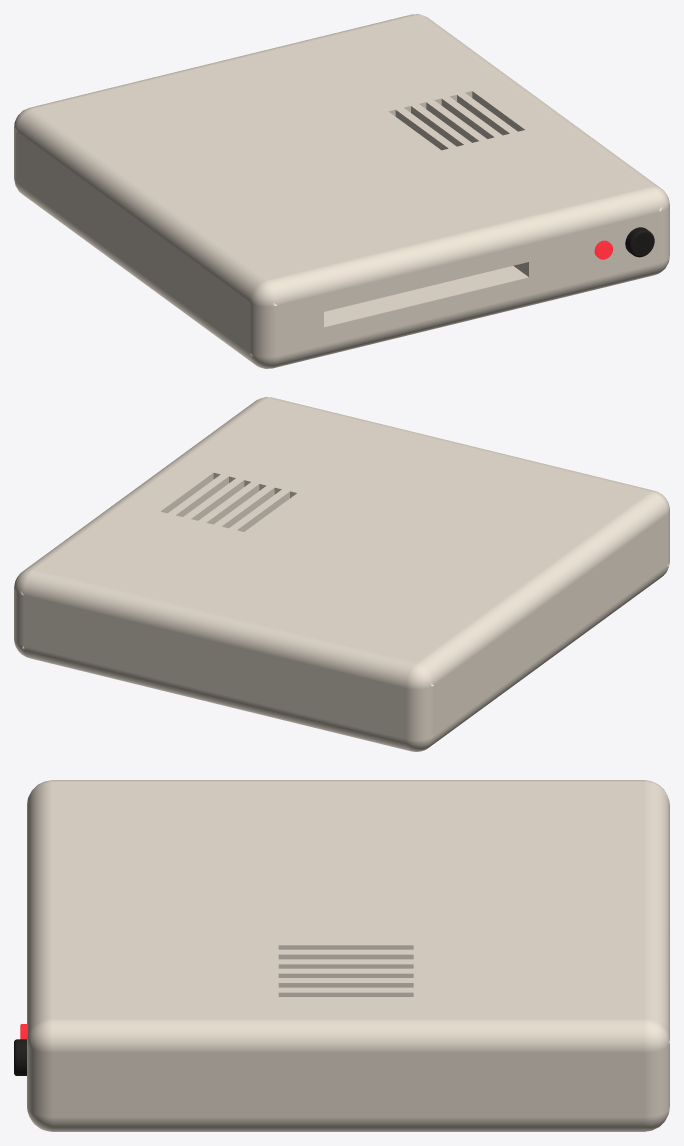
File: server.glb
The picture shows the model from 3 angles, top to bottom: view 1: azimuth 30°, elevation 25°; view 2: azimuth 150°, elevation 25°; view 3: azimuth 270°, elevation 25°; orthographic projection. The views are drawn at different scales.
Visible parts, largest first — view 1: ServerBox001, Button001; view 2: ServerBox001; view 3: ServerBox001.
Boxes of the visible parts, x1,y1,x2,y2 form: ServerBox001: [14, 14, 669, 368]; Button001: [625, 227, 654, 257]; ServerBox001: [14, 397, 669, 751]; ServerBox001: [27, 780, 669, 1131].
Size of the model in its own units: 2.46 by 0.4926 by 2.64.
